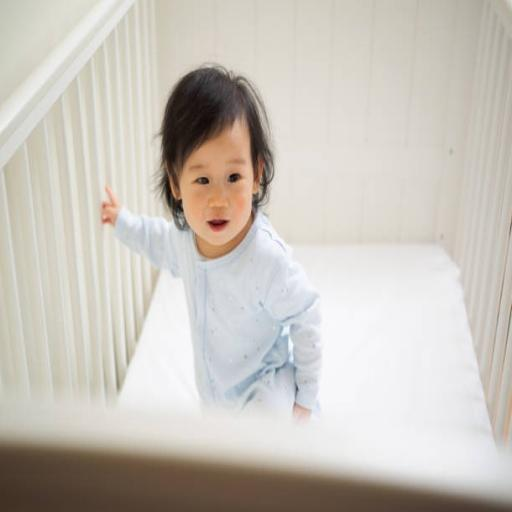baby: (102, 67, 321, 420)
crib: (0, 0, 511, 509)
